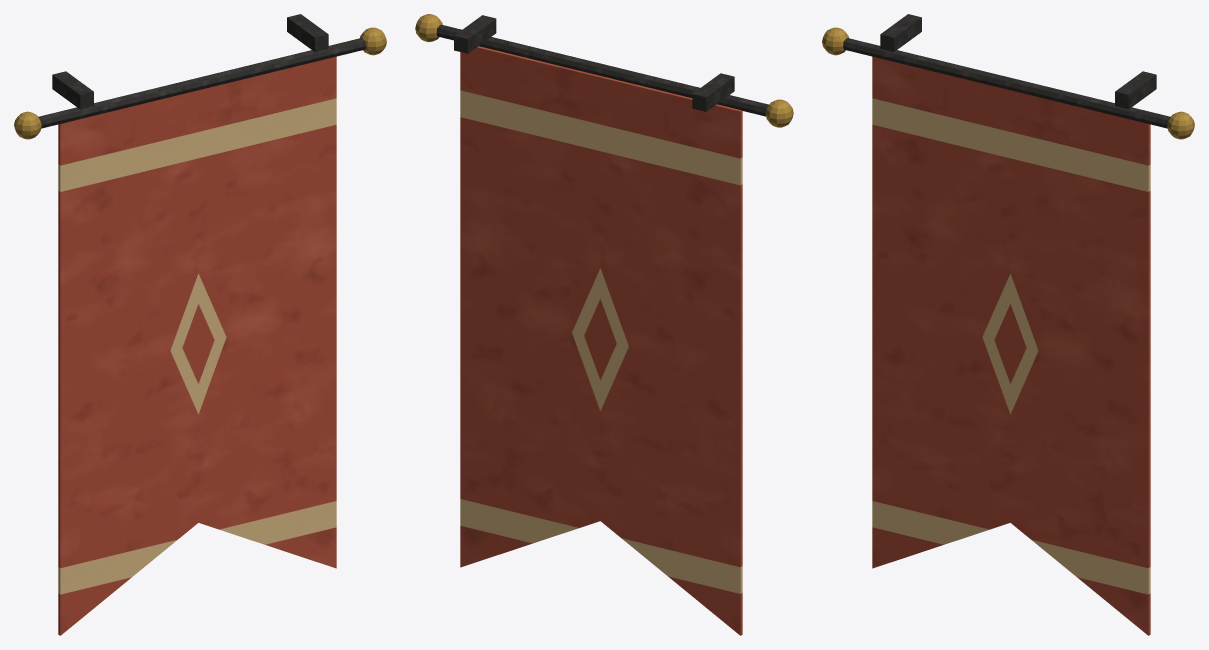
File: banner.glb
3 views of the same model, side by side, from view 1: azimuth 30°, elevation 25°; view 2: azimuth 150°, elevation 25°; view 3: azimuth 330°, elevation 25° (orthographic).
Parts seen in each view (by area): view 1: Banner_cloth, Banner_iron, Banner_gold; view 2: Banner_cloth, Banner_iron, Banner_gold; view 3: Banner_cloth, Banner_iron, Banner_gold.
Part boxes in pixels (bbox=[...]): Banner_cloth: bbox=[58, 56, 336, 635]; Banner_iron: bbox=[38, 14, 365, 128]; Banner_gold: bbox=[14, 27, 386, 139]; Banner_cloth: bbox=[460, 46, 742, 635]; Banner_iron: bbox=[436, 15, 768, 116]; Banner_gold: bbox=[415, 14, 793, 127]; Banner_cloth: bbox=[872, 56, 1150, 635]; Banner_iron: bbox=[843, 14, 1170, 128]; Banner_gold: bbox=[822, 27, 1194, 139].
Bounding box in the file's own units: 1.07 × 1.5 × 0.1533.
3 materials, 3 textured.
